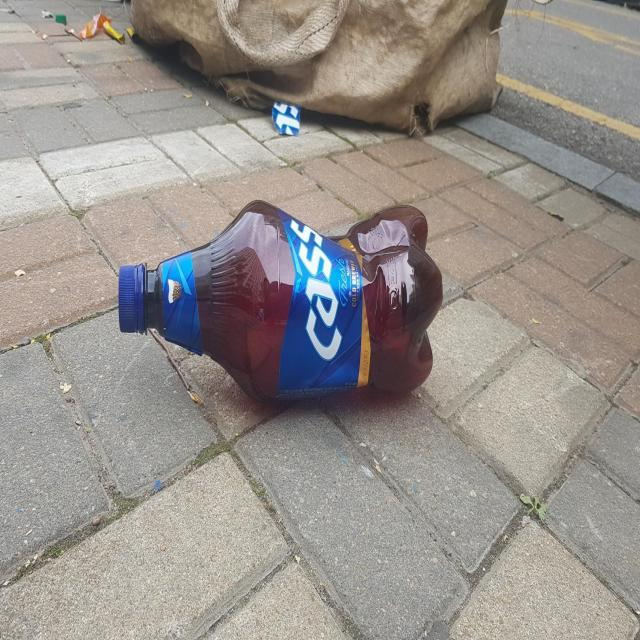plastic: (118, 200, 443, 401)
